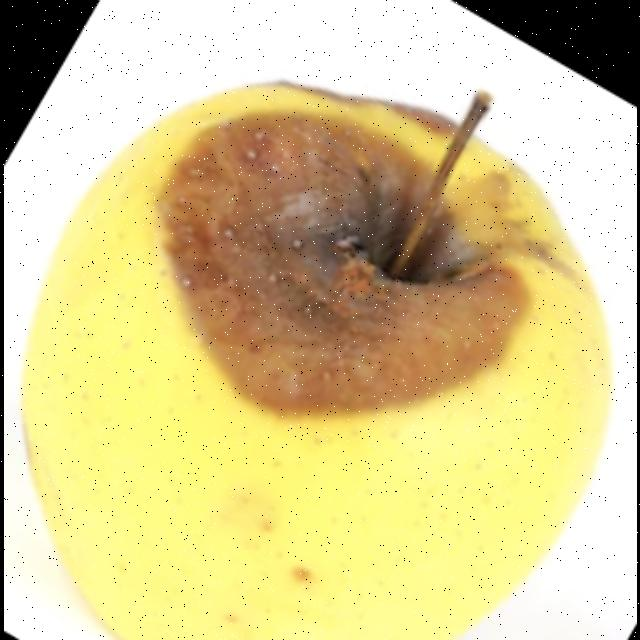Apel Tidak Segar: (29, 32, 637, 640)
